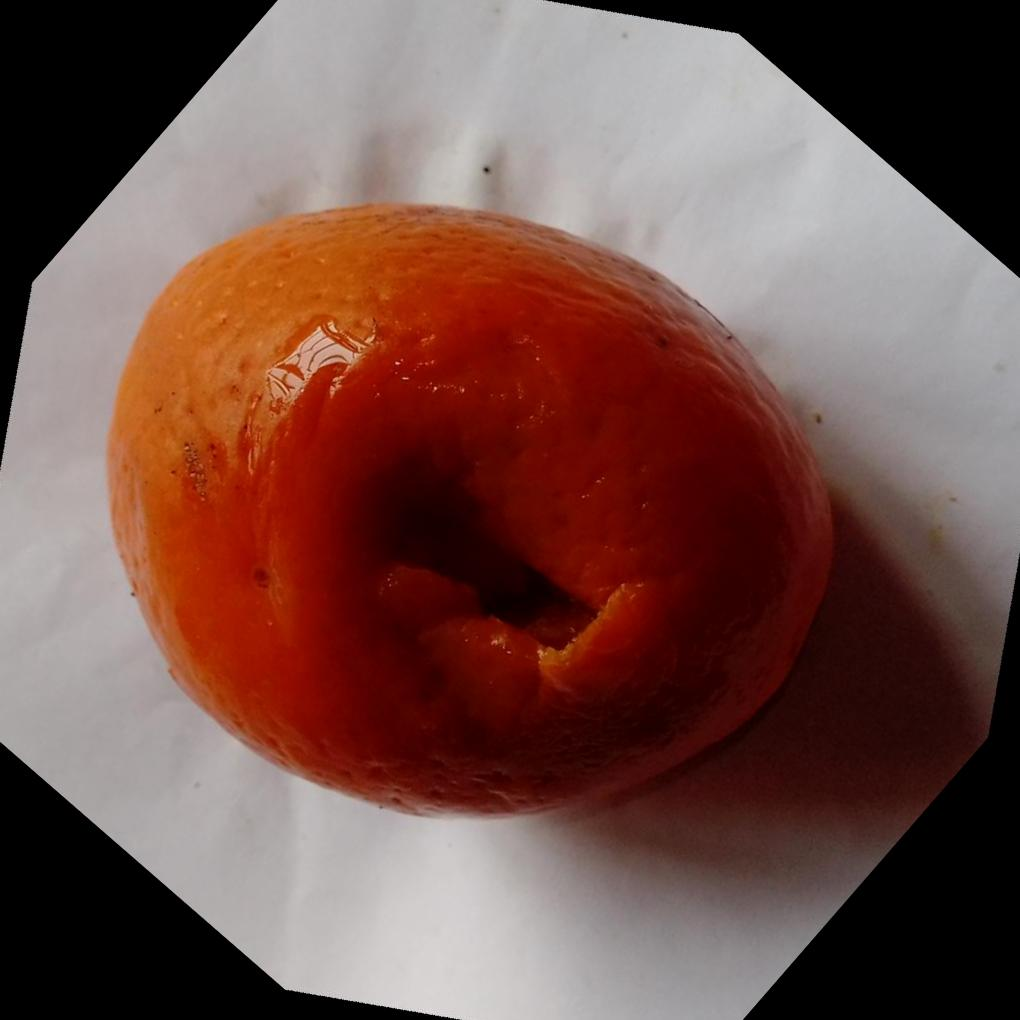FreshOrange: (104, 200, 841, 825)
